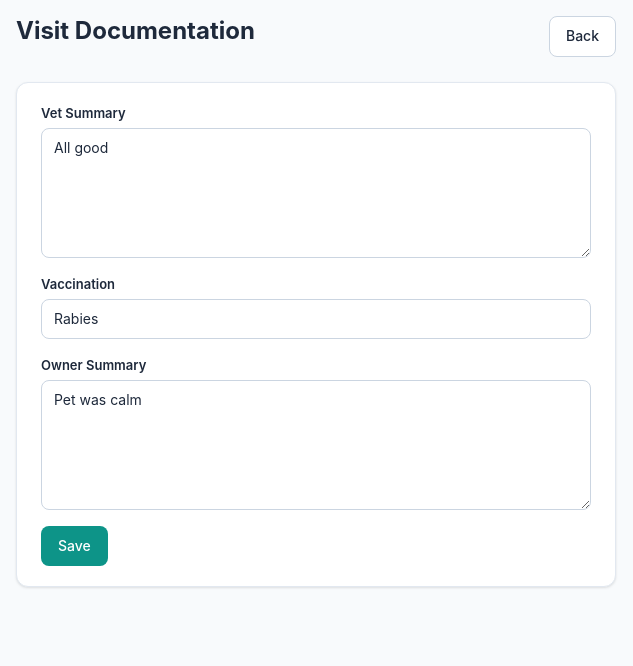
Test case: VetVisitPage › shows success feedback after save
Expected: the text box labelled "Vet Summary" is shown, [41, 128, 591, 258]
Click the button "Save" at (74, 546), box [41, 526, 108, 566]
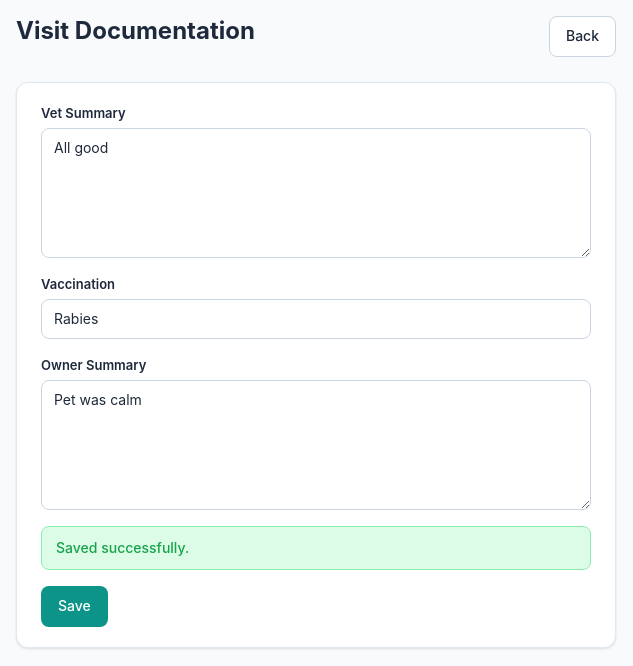
Result: the text "Saved successfully." is shown at [41, 526, 591, 570]
